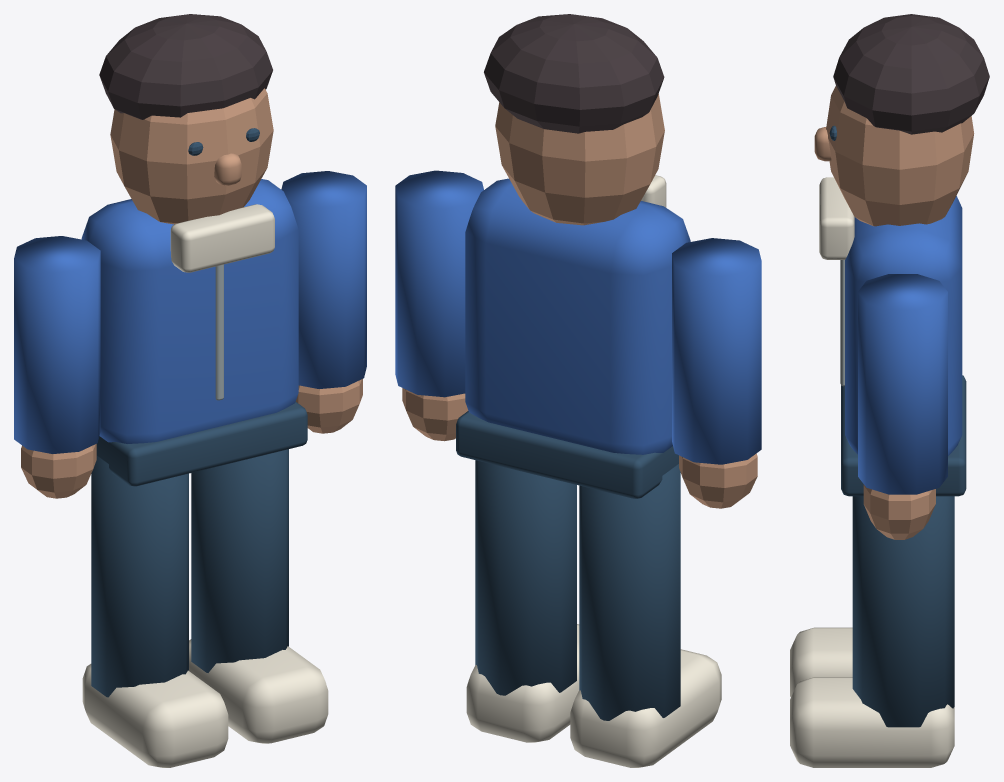
Rendered from HL_Pedestrian_02.fbx.
3 renders of one model, left to right at view 1: azimuth 30°, elevation 25°; view 2: azimuth 150°, elevation 25°; view 3: azimuth 270°, elevation 25°, orthographic. The views are drawn at different scales.
Parts seen in each view (by area): view 1: Torso | tailored jacket.003, Leg | trousers.004, Leg | trousers.005, Arm | sleeve.006, Arm | sleeve.007, Head | face.003, Head | hair cap.003, Foot | sneaker.006, Foot | sneaker.007, Torso | belt.003, Torso | collar.003, Arm | hand.006 (+3 smaller); view 2: Torso | tailored jacket.003, Leg | trousers.004, Leg | trousers.005, Arm | sleeve.006, Head | hair cap.003, Arm | sleeve.007, Head | face.003, Torso | belt.003, Foot | sneaker.006, Foot | sneaker.007, Arm | hand.006, Arm | hand.007; view 3: Leg | trousers.005, Arm | sleeve.007, Head | hair cap.003, Head | face.003, Torso | tailored jacket.003, Foot | sneaker.007, Foot | sneaker.006, Arm | hand.007, Torso | belt.003, Torso | collar.003, Jacket | coral or teal chest zip.002, Head | nose.003.
Part boxes in pixels (x1=…): Torso | tailored jacket.003: x1=81, y1=179, x2=298, y2=443; Leg | trousers.004: x1=91, y1=455, x2=188, y2=697; Leg | trousers.005: x1=191, y1=449, x2=288, y2=672; Arm | sleeve.006: x1=14, y1=236, x2=100, y2=453; Arm | sleeve.007: x1=281, y1=171, x2=366, y2=388; Head | face.003: x1=110, y1=88, x2=273, y2=224; Head | hair cap.003: x1=99, y1=14, x2=272, y2=119; Foot | sneaker.006: x1=82, y1=664, x2=228, y2=767; Foot | sneaker.007: x1=189, y1=639, x2=328, y2=743; Torso | belt.003: x1=96, y1=402, x2=307, y2=486; Torso | collar.003: x1=170, y1=204, x2=274, y2=272; Arm | hand.006: x1=21, y1=444, x2=96, y2=498; Torso | tailored jacket.003: x1=465, y1=178, x2=690, y2=454; Leg | trousers.004: x1=579, y1=464, x2=680, y2=720; Leg | trousers.005: x1=475, y1=460, x2=576, y2=695; Arm | sleeve.006: x1=672, y1=238, x2=761, y2=464; Head | hair cap.003: x1=484, y1=14, x2=664, y2=133; Arm | sleeve.007: x1=395, y1=170, x2=483, y2=397; Head | face.003: x1=495, y1=94, x2=664, y2=225; Torso | belt.003: x1=456, y1=411, x2=678, y2=498; Foot | sneaker.006: x1=570, y1=649, x2=721, y2=767; Foot | sneaker.007: x1=466, y1=624, x2=579, y2=742; Arm | hand.006: x1=679, y1=453, x2=757, y2=508; Arm | hand.007: x1=402, y1=388, x2=468, y2=441; Leg | trousers.005: x1=852, y1=496, x2=954, y2=727; Arm | sleeve.007: x1=858, y1=274, x2=947, y2=494; Head | hair cap.003: x1=833, y1=14, x2=989, y2=134; Head | face.003: x1=826, y1=86, x2=974, y2=226; Torso | tailored jacket.003: x1=845, y1=196, x2=962, y2=455; Foot | sneaker.007: x1=790, y1=677, x2=954, y2=767; Foot | sneaker.006: x1=790, y1=627, x2=852, y2=697; Arm | hand.007: x1=863, y1=484, x2=935, y2=539; Torso | belt.003: x1=841, y1=375, x2=966, y2=496; Torso | collar.003: x1=819, y1=177, x2=854, y2=259; Jacket | coral or teal chest zip.002: x1=840, y1=260, x2=844, y2=386; Head | nose.003: x1=814, y1=127, x2=831, y2=161.
Bounding box in the file's own units: 102 × 199 × 51.
